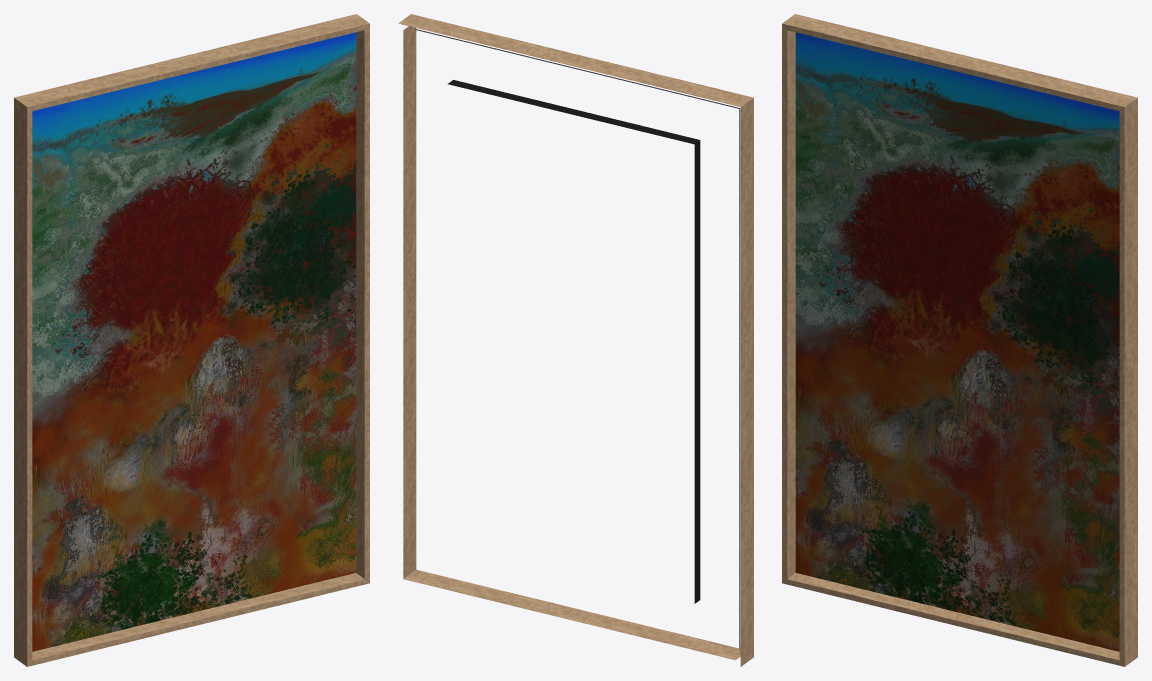
Rendered from os013_moyen_caisse-chene.glb.
The picture shows the model from 3 angles, left to right: view 1: azimuth 30°, elevation 25°; view 2: azimuth 150°, elevation 25°; view 3: azimuth 330°, elevation 25°; orthographic projection.
Parts seen in each view (by area): view 1: os013_moyen_caisse-chene; view 2: os013_moyen_caisse-chene; view 3: os013_moyen_caisse-chene.
Part boxes in pixels (x1,y1,x2,y2): os013_moyen_caisse-chene: (14, 14, 369, 666); os013_moyen_caisse-chene: (398, 14, 753, 666); os013_moyen_caisse-chene: (782, 14, 1137, 666).
Bounding box in the file's own units: 0.5304 × 0.828 × 0.035.
4 materials, 2 textured.
